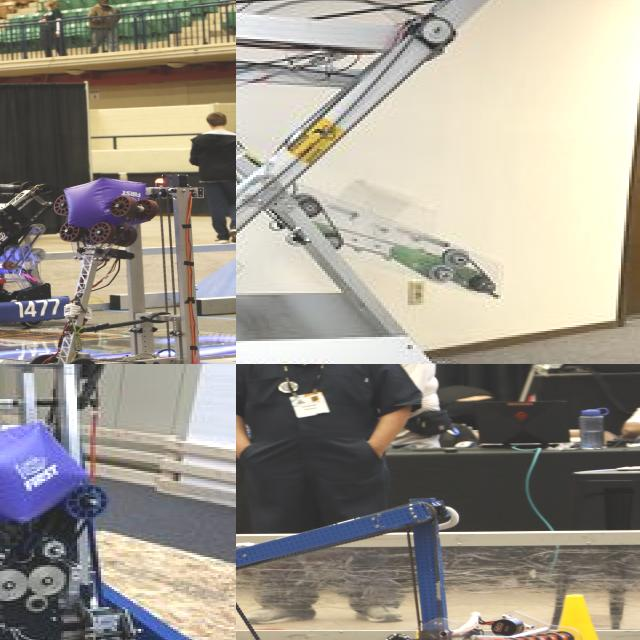FRC-Robots: (236, 0, 557, 364), (0, 364, 214, 640), (236, 488, 583, 640), (0, 173, 236, 364), (0, 159, 77, 340)
